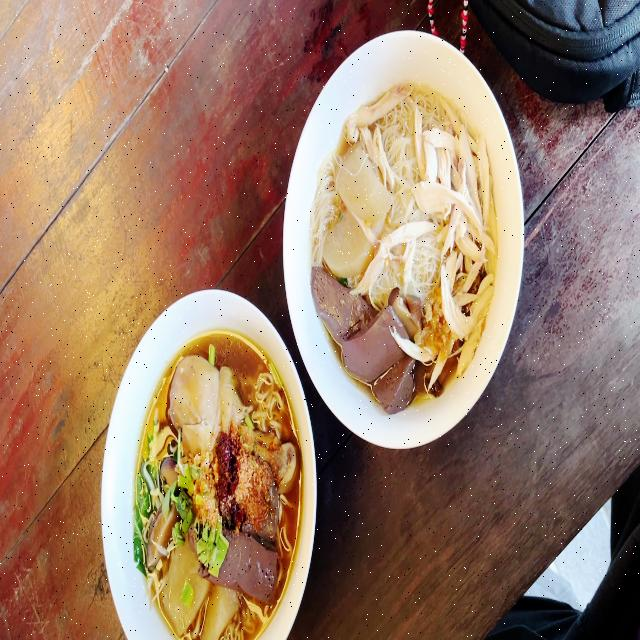boiled_chicken_blood_jelly: (313, 273, 415, 409), (188, 524, 279, 598), (262, 467, 278, 539)
chicken_drumstick: (171, 362, 296, 487)
chicken_shredded: (418, 122, 493, 360), (349, 82, 411, 143)
daikon_radish: (332, 148, 378, 273), (159, 567, 233, 638)
noodle: (320, 112, 493, 403), (143, 388, 282, 624)
